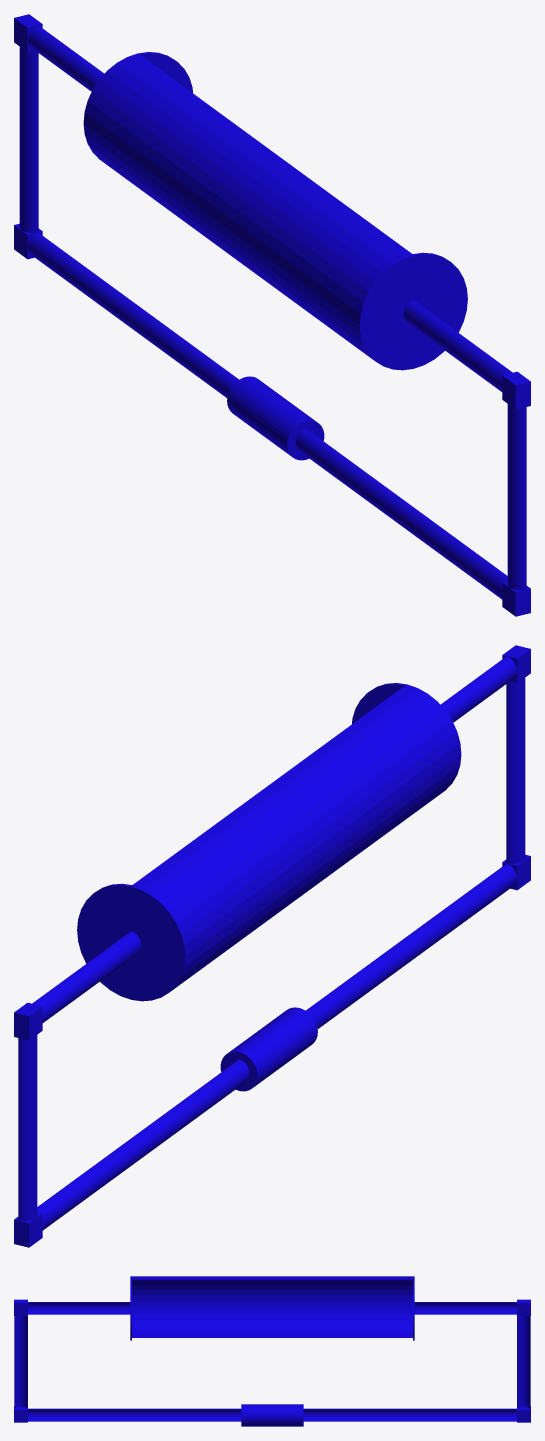
File: Final FOE 1.gltf
The picture shows the model from 3 angles, top to bottom: view 1: azimuth 30°, elevation 25°; view 2: azimuth 150°, elevation 25°; view 3: azimuth 270°, elevation 25°; orthographic projection. The views are drawn at different scales.
Visible parts, largest first — view 1: Cylinder; view 2: Cylinder; view 3: Cylinder.
Boxes of the visible parts, left/top/right/bottom form: Cylinder: left=14, top=14, right=530, bottom=616; Cylinder: left=14, top=645, right=530, bottom=1247; Cylinder: left=14, top=1276, right=530, bottom=1426.
Bounding box in the file's own units: 2.81 × 7.03 × 22.56.
